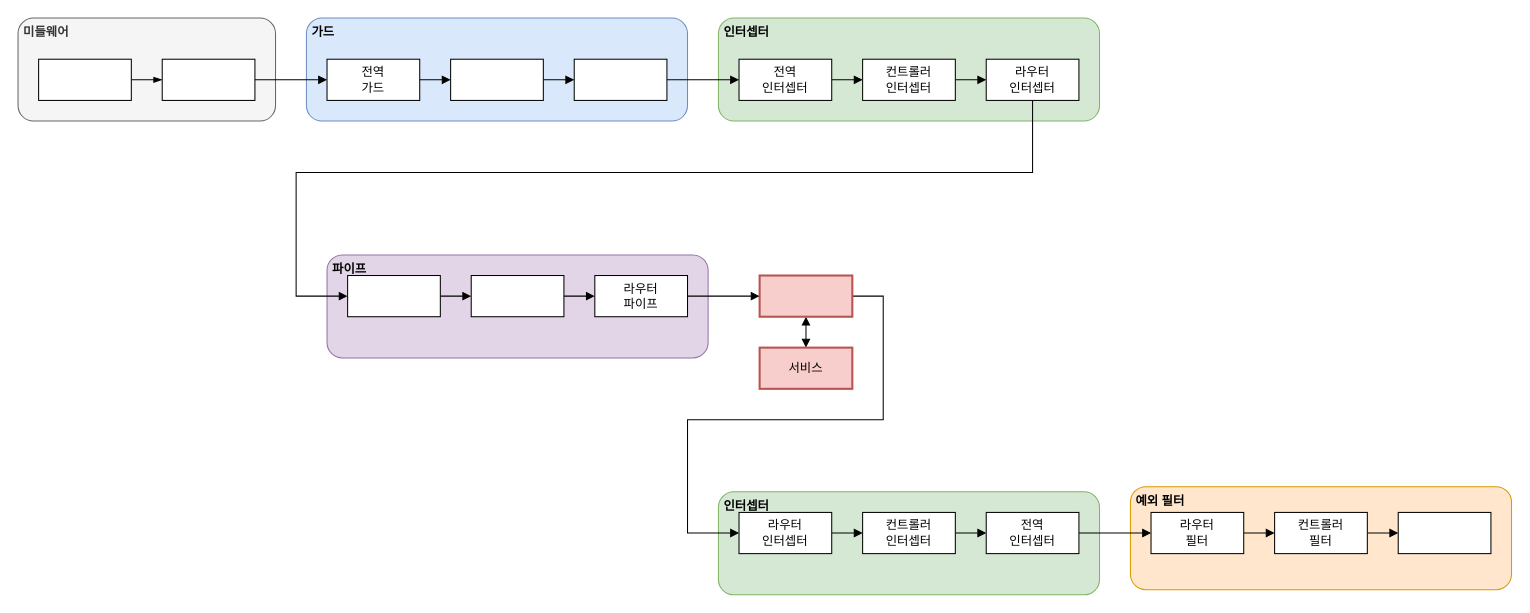
Some shapes in this 1530 by 613 pixel diagram are drawn without their labels. Each missing label, with the centre of its shape:
"라우터 가드" belongs at [620,79].
"모듈 미들웨어" belongs at [208,79].
"전역 미들웨어" belongs at [84,79].
"전역 파이프" belongs at [393,295].
"전역 필터" belongs at [1444,532].
"컨트롤러" belongs at [805,295].
"컨트롤러 가드" belongs at [496,79].
"컨트롤러 파이프" belongs at [517,295].
